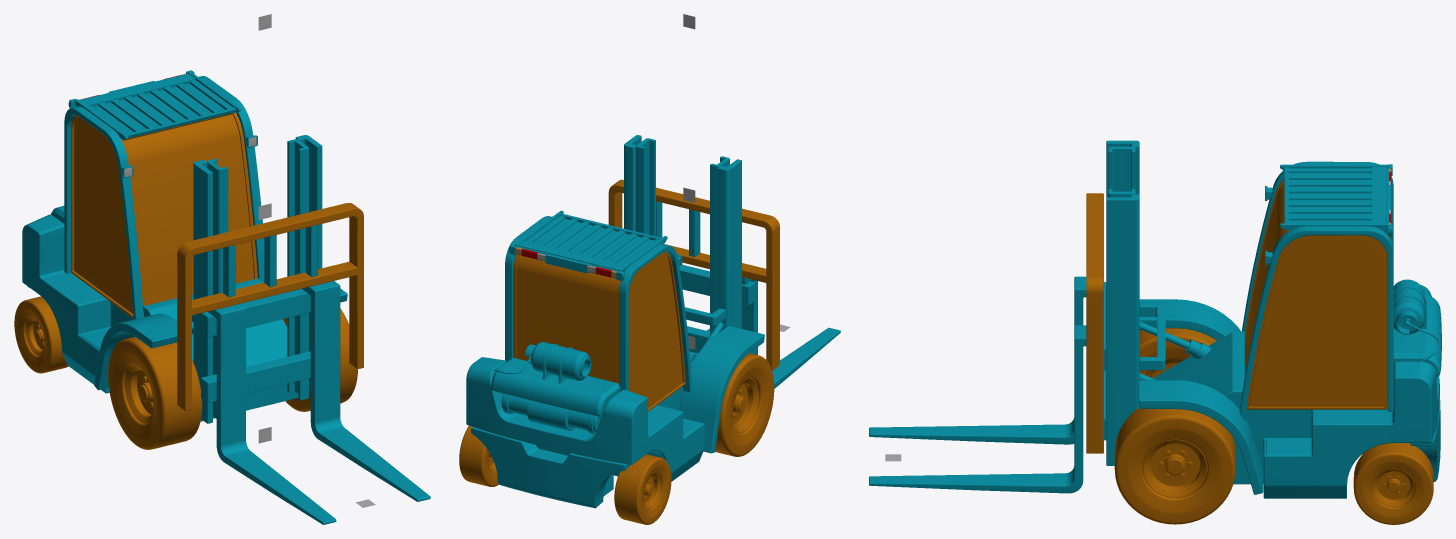
Rendered from SM_Forklift_Player4.fbx.
The picture shows the model from 3 angles, left to right: view 1: azimuth 30°, elevation 25°; view 2: azimuth 150°, elevation 25°; view 3: azimuth 270°, elevation 25°; orthographic projection. The views are drawn at different scales.
Parts seen in each view (by area): view 1: FL_Base, FL_Forks, FL_FW_R, FL_Telescopic, FL_BW_R, FL_FW_L; view 2: FL_Base, FL_Forks, FL_FW_R, FL_Telescopic, FL_BW_R, FL_BW_L; view 3: FL_Base, FL_Forks, FL_FW_L, FL_BW_L, FL_FW_R, FL_Telescopic.
Boxes of the visible parts, box(x1,y1,x2,y2) form: FL_Base: box(22, 70, 347, 423); FL_Forks: box(177, 203, 430, 524); FL_FW_R: box(108, 336, 202, 449); FL_Telescopic: box(206, 139, 308, 418); FL_BW_R: box(14, 296, 68, 373); FL_FW_L: box(283, 308, 357, 411); FL_Base: box(466, 135, 764, 508); FL_Forks: box(608, 179, 840, 388); FL_FW_R: box(715, 353, 774, 456); FL_Telescopic: box(636, 138, 729, 334); FL_BW_R: box(614, 454, 671, 524); FL_BW_L: box(459, 425, 498, 486); FL_Base: box(1106, 140, 1441, 498); FL_Forks: box(869, 193, 1106, 493); FL_FW_L: box(1114, 407, 1235, 524); FL_BW_L: box(1353, 443, 1433, 524); FL_FW_R: box(1139, 328, 1216, 406); FL_Telescopic: box(1108, 146, 1135, 197).
Size of the model in its own units: 150 by 315 by 358.
